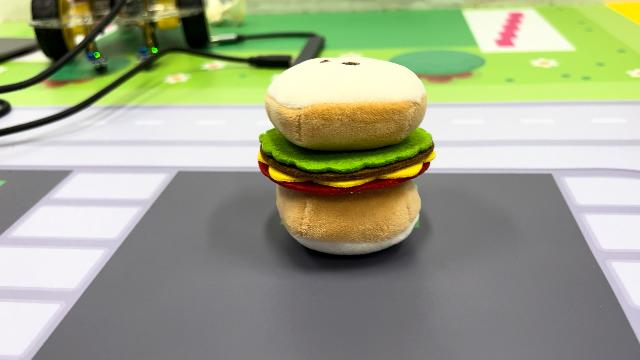sandwich: (255, 53, 438, 258)
